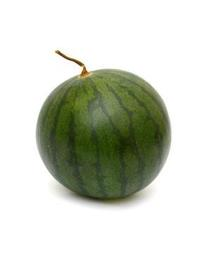watermelon: (35, 69, 171, 203)
